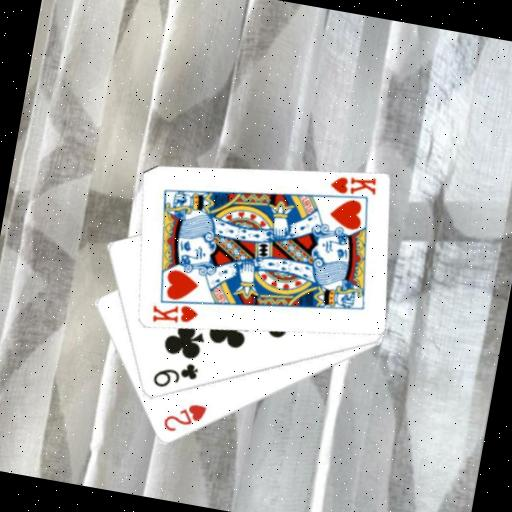2H: (158, 395, 209, 439)
9C: (148, 354, 202, 395)
KH: (146, 296, 200, 331), (325, 167, 380, 201)
